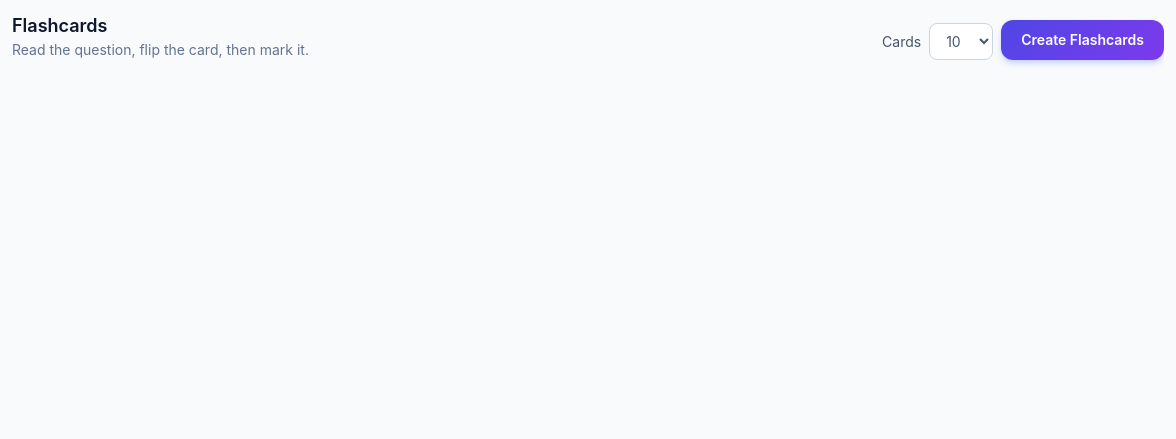
Test: FlashcardPanel › moves Next and Previous, and disables Previous on the first card
Click the button "Create Flashcards". click: (1083, 40)
box: [1001,20,1164,60]
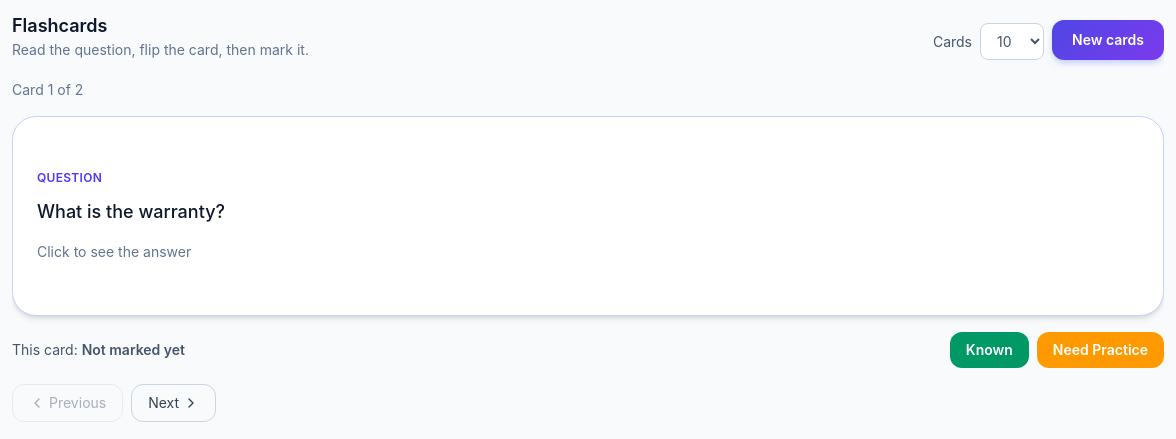
Expected: the text "What is the warranty?" is shown, [37,198,225,226]
Expected: the button "Previous" is disabled, [12,384,123,422]
Click the button "Next". click: (174, 403)
box: [131,384,216,422]
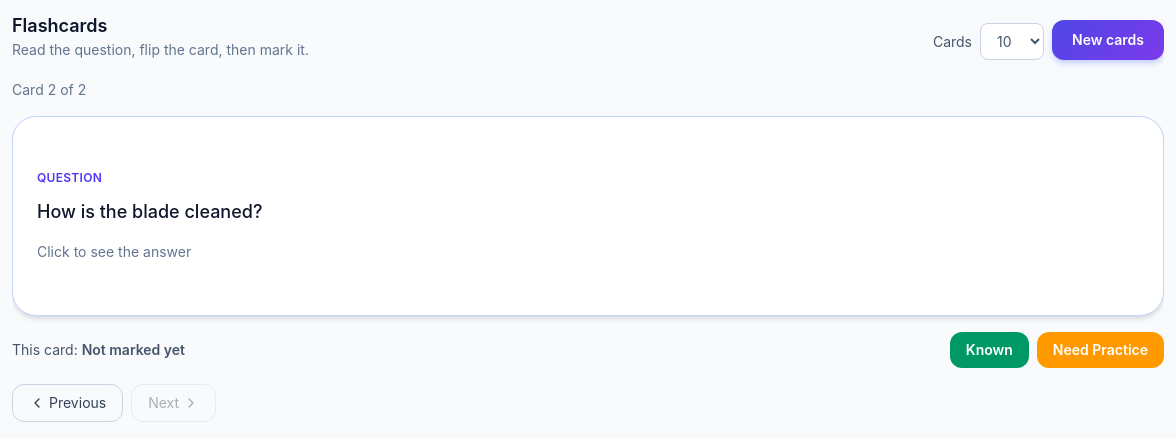
Expected: the text with test id "deck-progress" reads "Card 2 of 2", [12,81,86,98]
Expected: the text with test id "card-face" reads "How is the blade cleaned?", [37,201,262,222]
Click the button "Previous". click: (68, 403)
box: [12,384,123,422]
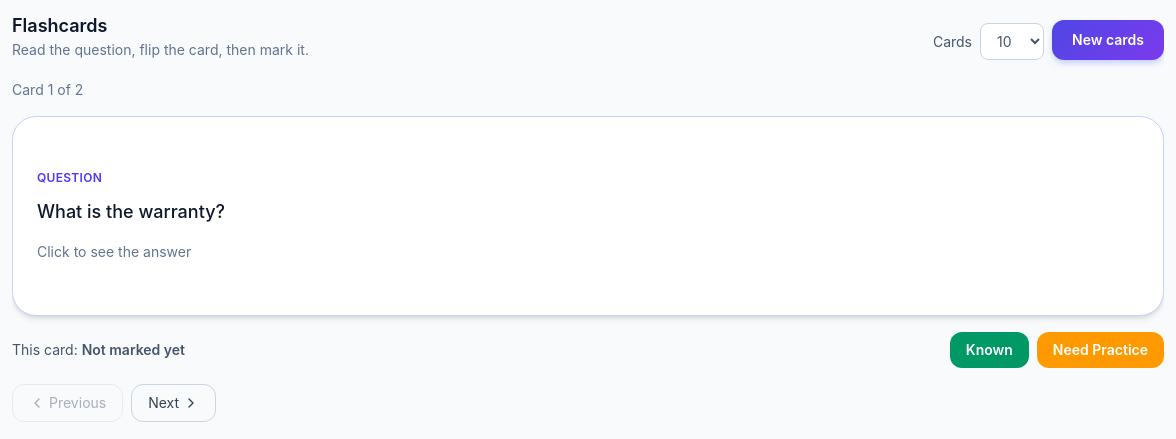
Expected: the text with test id "deck-progress" reads "Card 1 of 2", [12,81,83,98]
